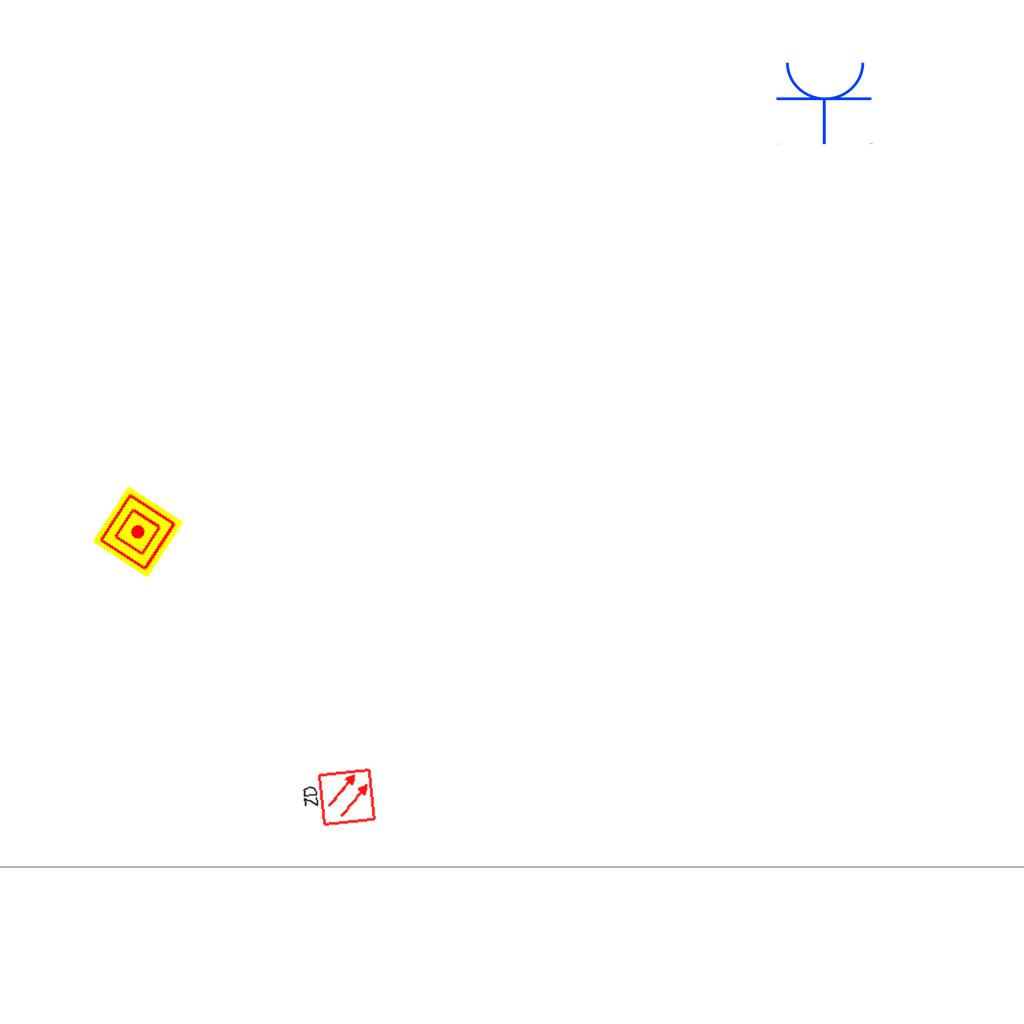NAM-Nichtautomatischer_Melder: (92, 486, 184, 578)
Schukosteckdose_einfach: (775, 58, 875, 145)
ZD_Melder_in_Zwischendecke_mit_Revisionsoeffnung_mind_40_x_40_cm: (297, 766, 378, 832)
